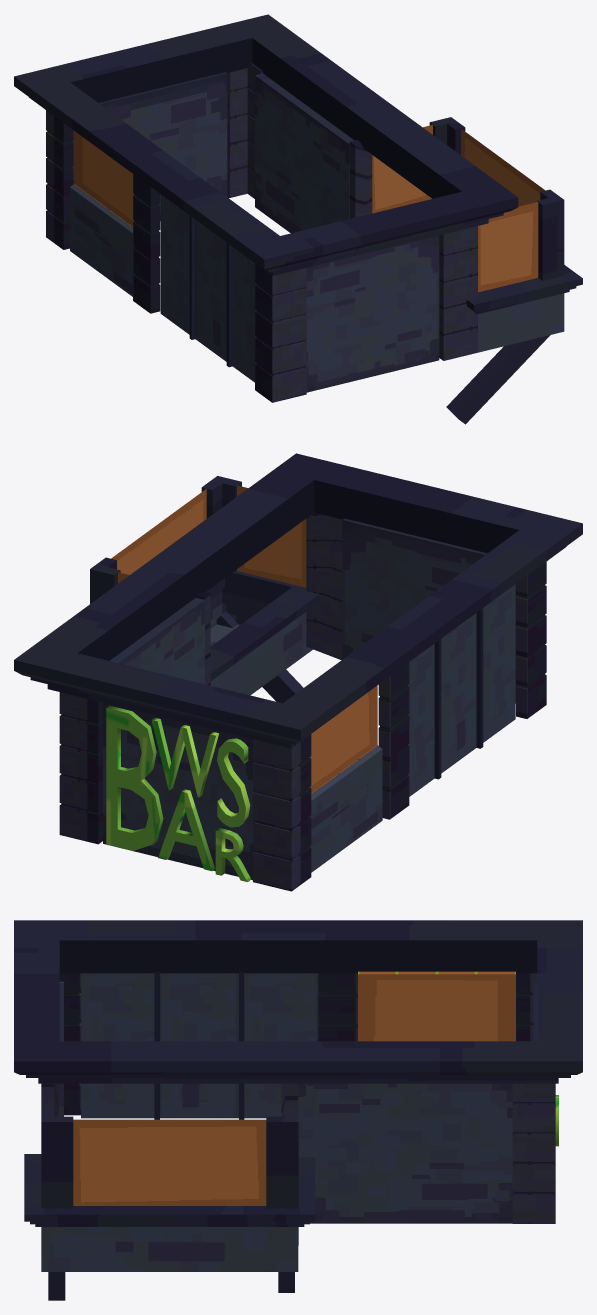
File: bar_etage1n.fbx
3 views of the same model, one above another, from view 1: azimuth 30°, elevation 25°; view 2: azimuth 150°, elevation 25°; view 3: azimuth 270°, elevation 25° (orthographic). The views are drawn at different scales.
Visible parts, largest first — view 1: Text."S".001; view 2: Text."S".001; view 3: Text."S".001.
Part boxes in pixels (<box>): Text."S".001: <box>14,14,582,424</box>; Text."S".001: <box>14,453,582,891</box>; Text."S".001: <box>14,920,582,1300</box>.
Size of the model in its own units: 656 by 444 by 879.
